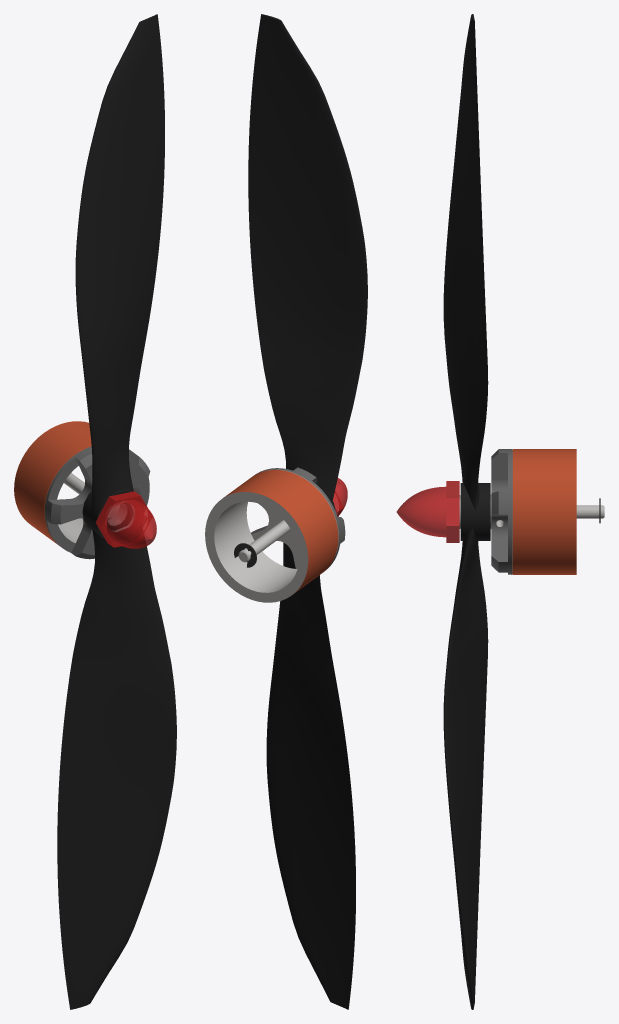
The model's file is Engine_front_cc.obj.
The picture shows the model from 3 angles, left to right: view 1: azimuth 30°, elevation 25°; view 2: azimuth 150°, elevation 25°; view 3: azimuth 270°, elevation 25°; orthographic projection. The views are drawn at different scales.
Parts seen in each view (by area): view 1: Solid1, Solid1:1; view 2: Solid1, Solid1:1; view 3: Solid1, Solid1:1.
Part boxes in pixels (<box>): Solid1: <box>57,14,176,1009</box>; Solid1:1: <box>14,421,156,559</box>; Solid1: <box>248,14,367,1009</box>; Solid1:1: <box>205,467,347,602</box>; Solid1: <box>443,14,490,1009</box>; Solid1:1: <box>396,449,604,574</box>.
Bounding box in the file's own units: 0.0291 × 0.2525 × 0.0464.
